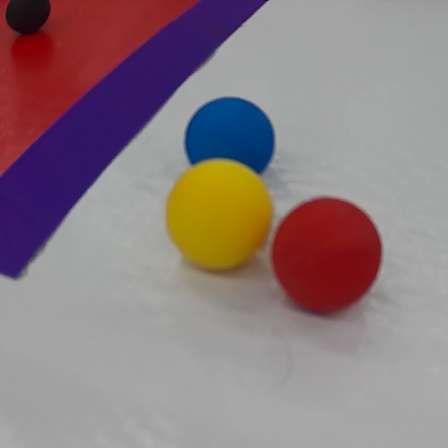black: (5, 0, 51, 38)
blue: (185, 95, 276, 179)
red: (271, 196, 385, 319)
red_aim: (0, 0, 274, 288)
yellow: (163, 155, 276, 275)
